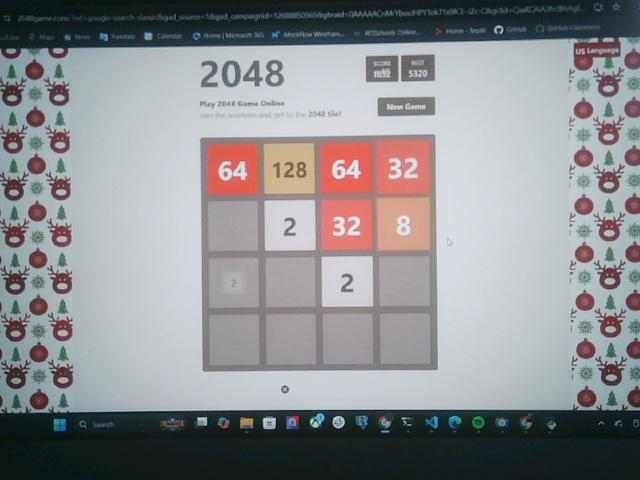best_score_box: (402, 54, 435, 82)
button: (378, 97, 435, 117)
score_box: (365, 56, 399, 83)
